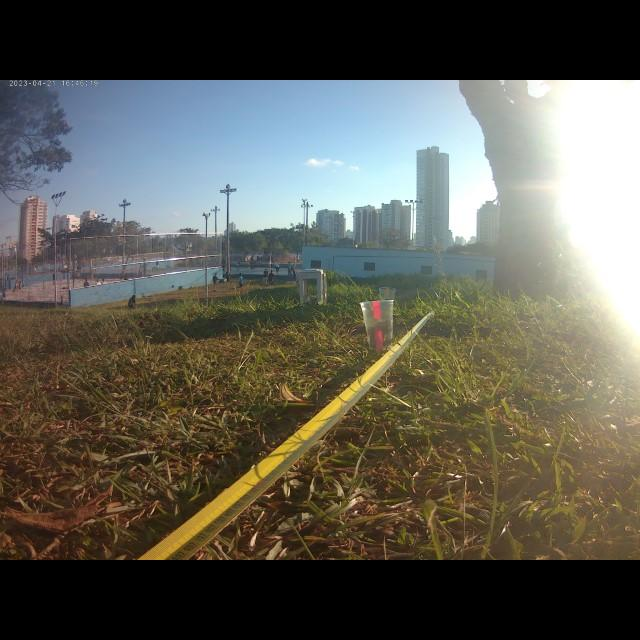arvore: (457, 81, 604, 296)
